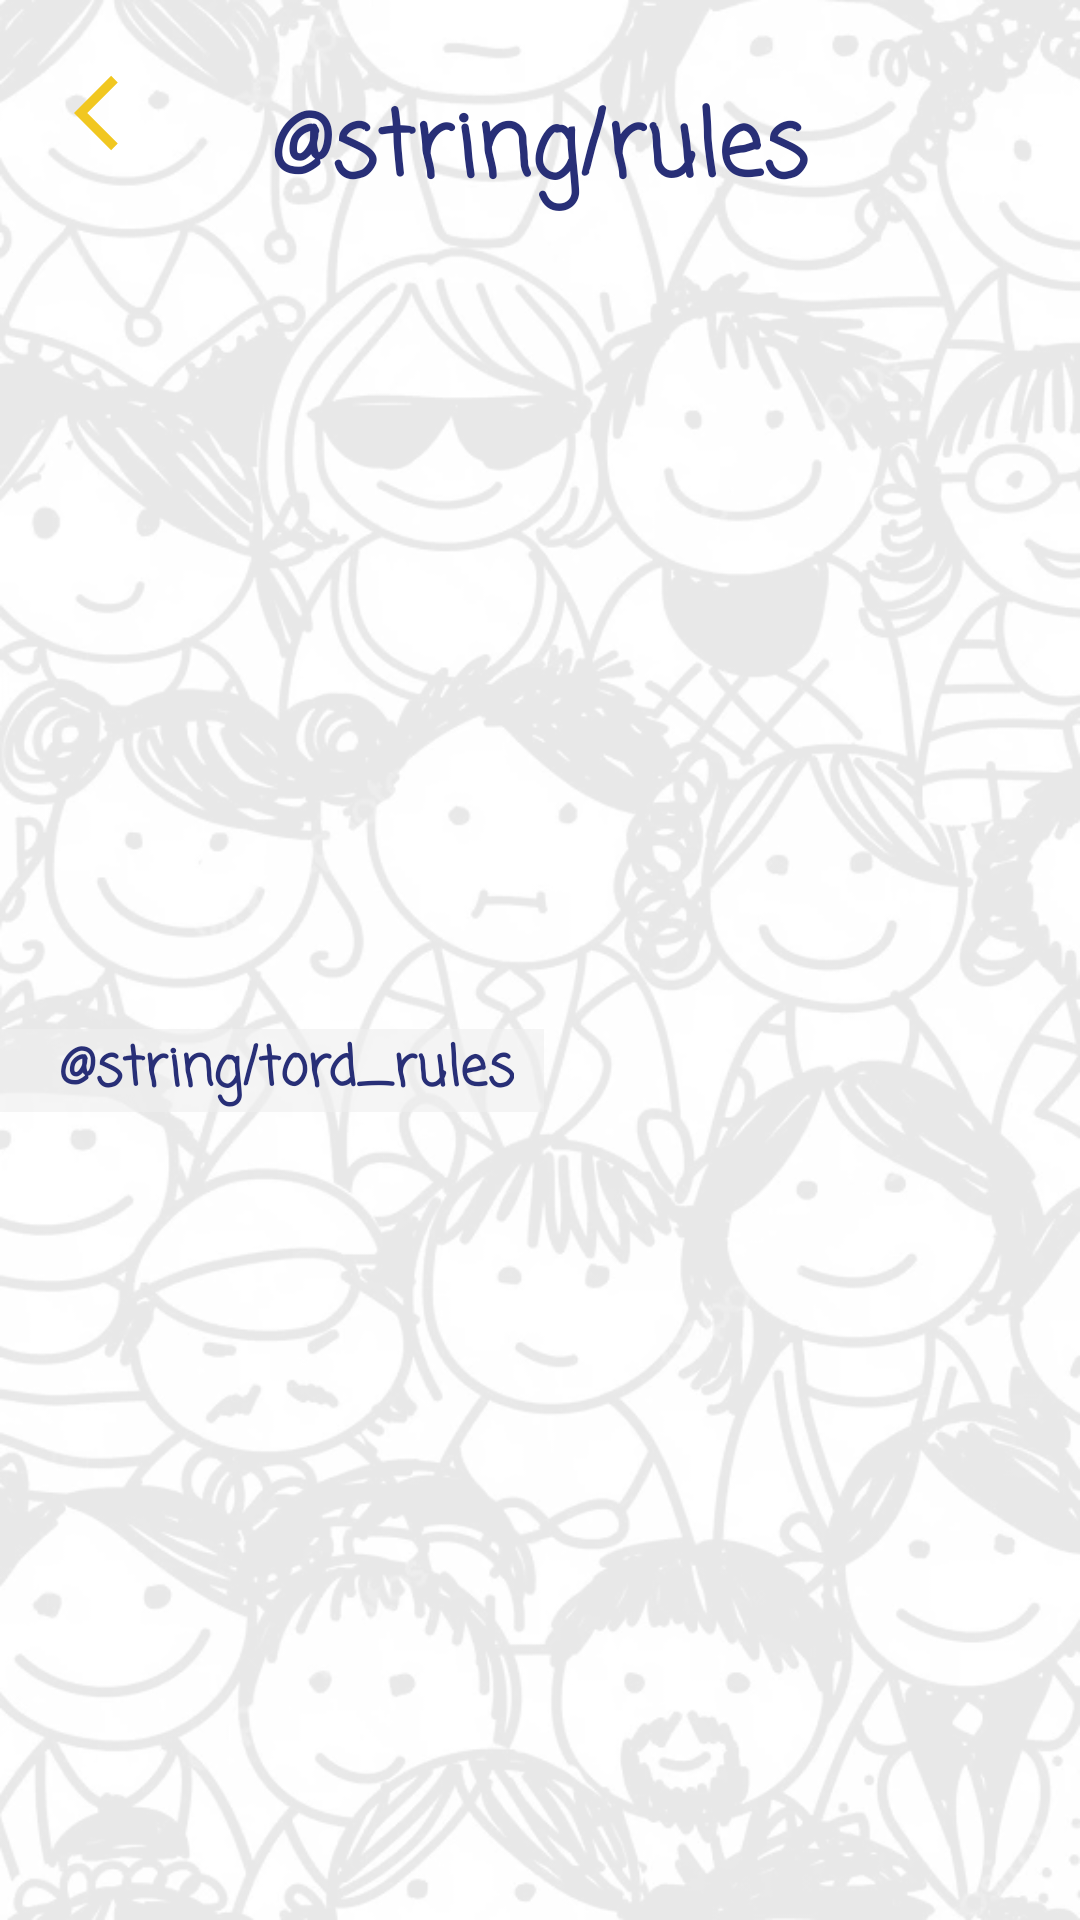

Screen size 1080px×1920px. Icon name, then its box in pixels as (x1, y1, x2, y2):
backbtn: (74, 76, 118, 150)
